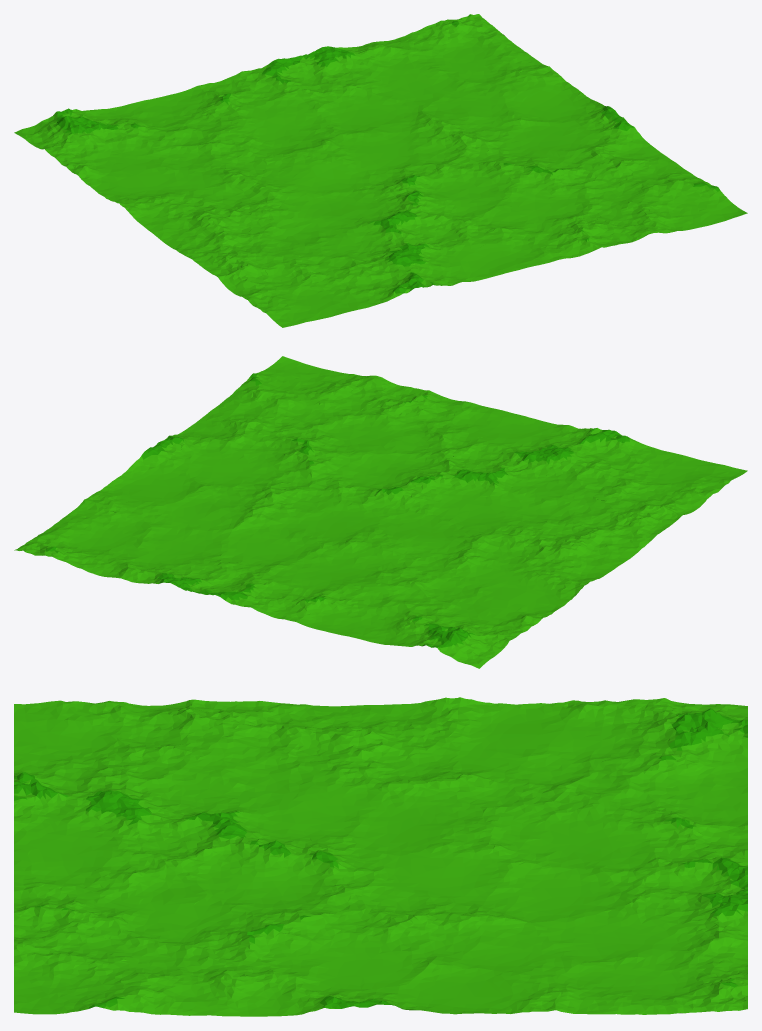
File: plain.glb
3 renders of one model, top to bottom at view 1: azimuth 30°, elevation 25°; view 2: azimuth 150°, elevation 25°; view 3: azimuth 270°, elevation 25°, orthographic. The views are drawn at different scales.
Parts seen in each view (by area): view 1: Landscape.001; view 2: Landscape.001; view 3: Landscape.001.
Part boxes in pixels (<box>): Landscape.001: <box>14,14,747,327</box>; Landscape.001: <box>14,356,747,668</box>; Landscape.001: <box>14,697,747,1016</box>.
Bounding box in the file's own units: 20.01 × 0.7528 × 20.
